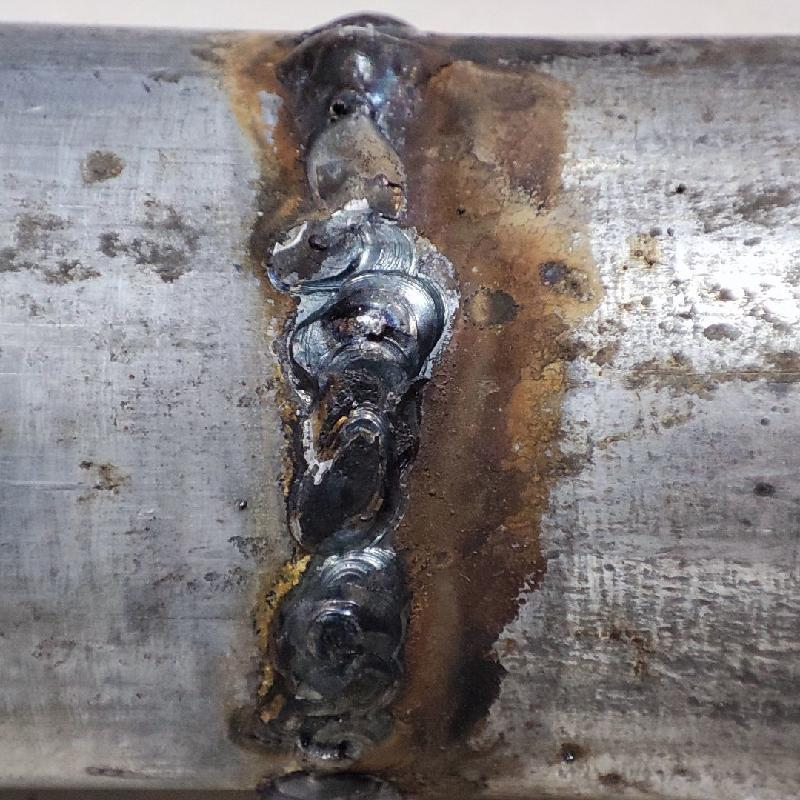Not_fully_soldered: (275, 100, 412, 280), (265, 709, 432, 780)
Surface_pores: (314, 90, 376, 139)
Weld: (256, 4, 427, 141)
wrong_size: (263, 280, 450, 709)
